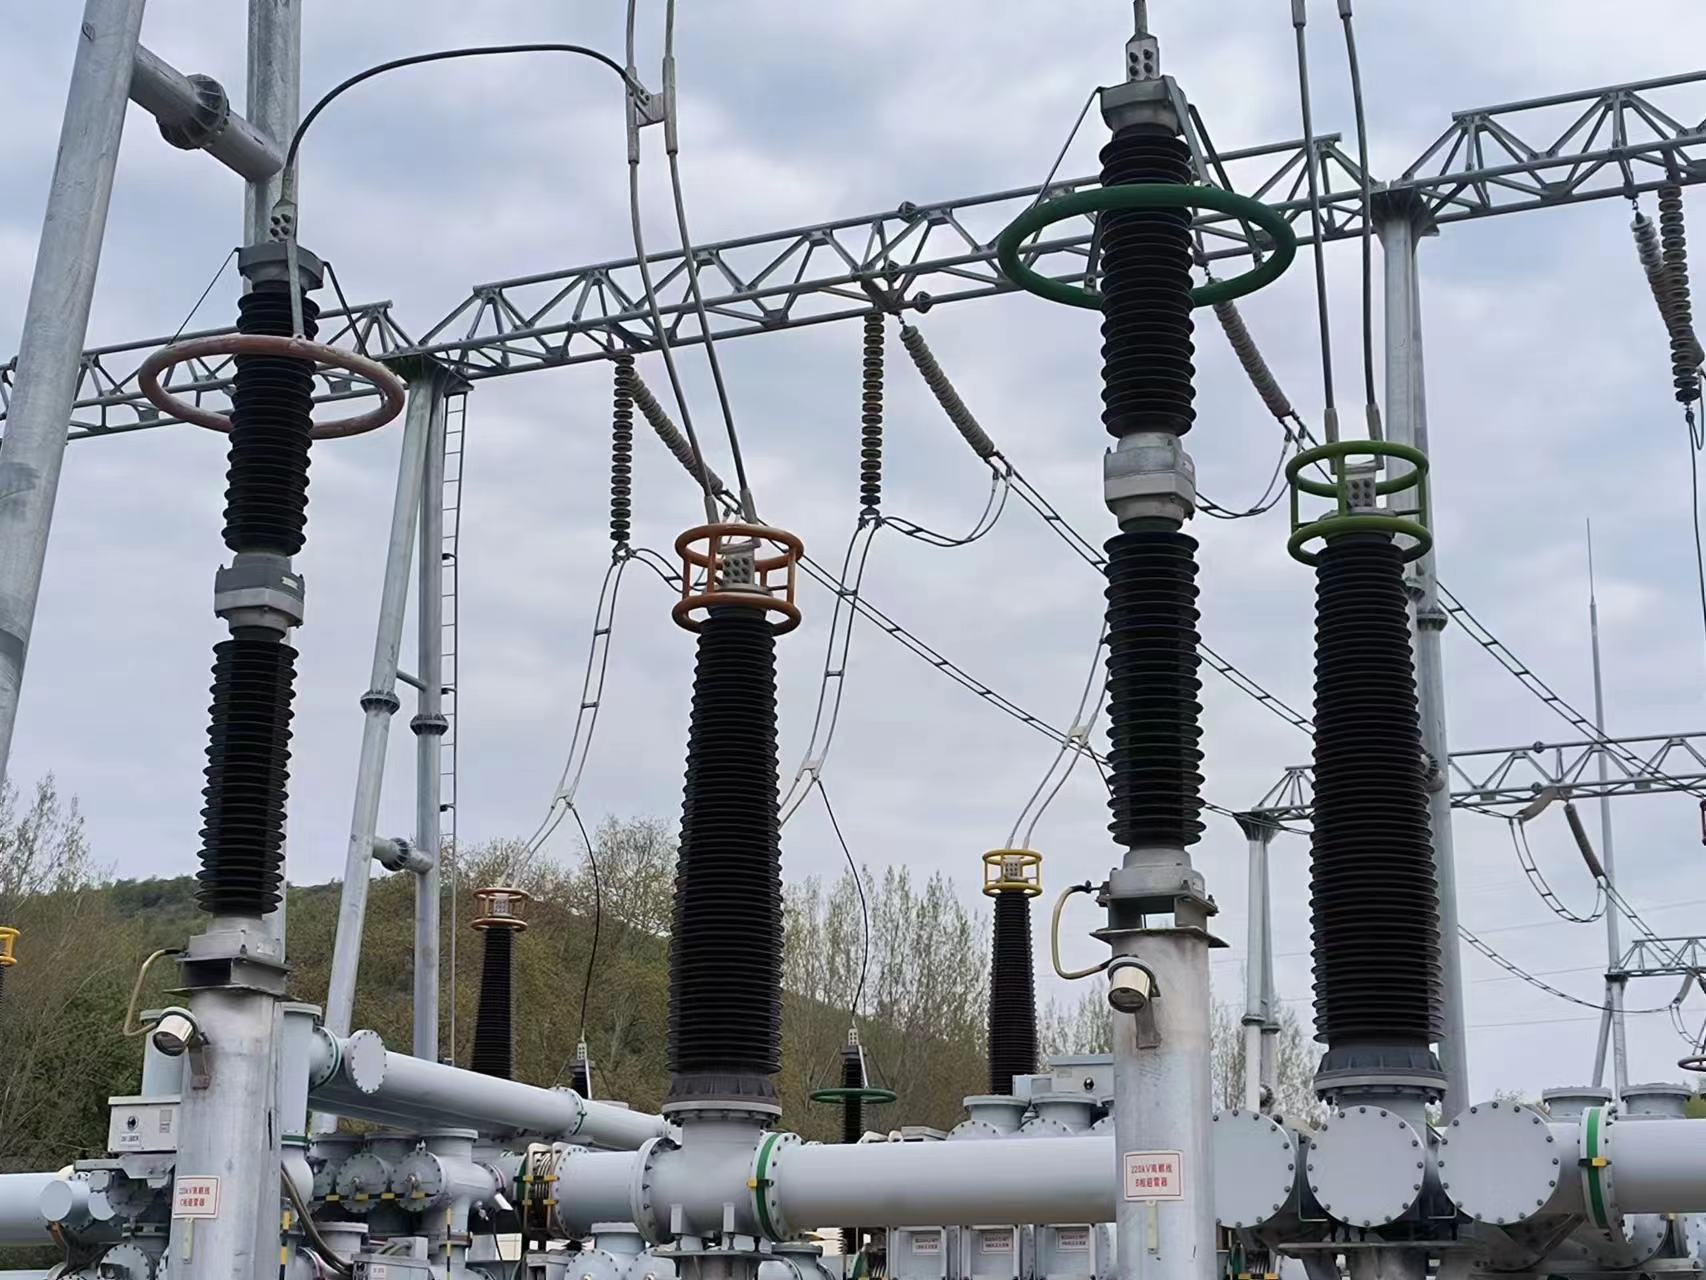Arrester: (993, 86, 1299, 937), (136, 227, 405, 959)
Voltage transformer: (1281, 436, 1452, 1085), (664, 520, 809, 1103)
